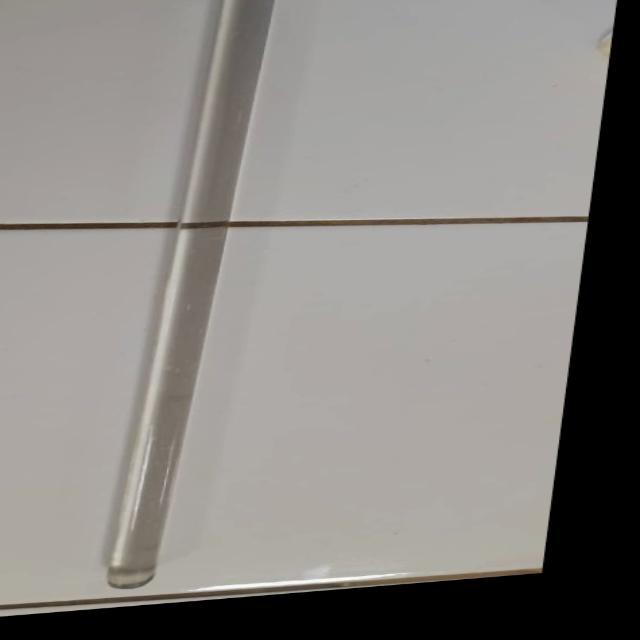Stirrer: (95, 0, 285, 595)
